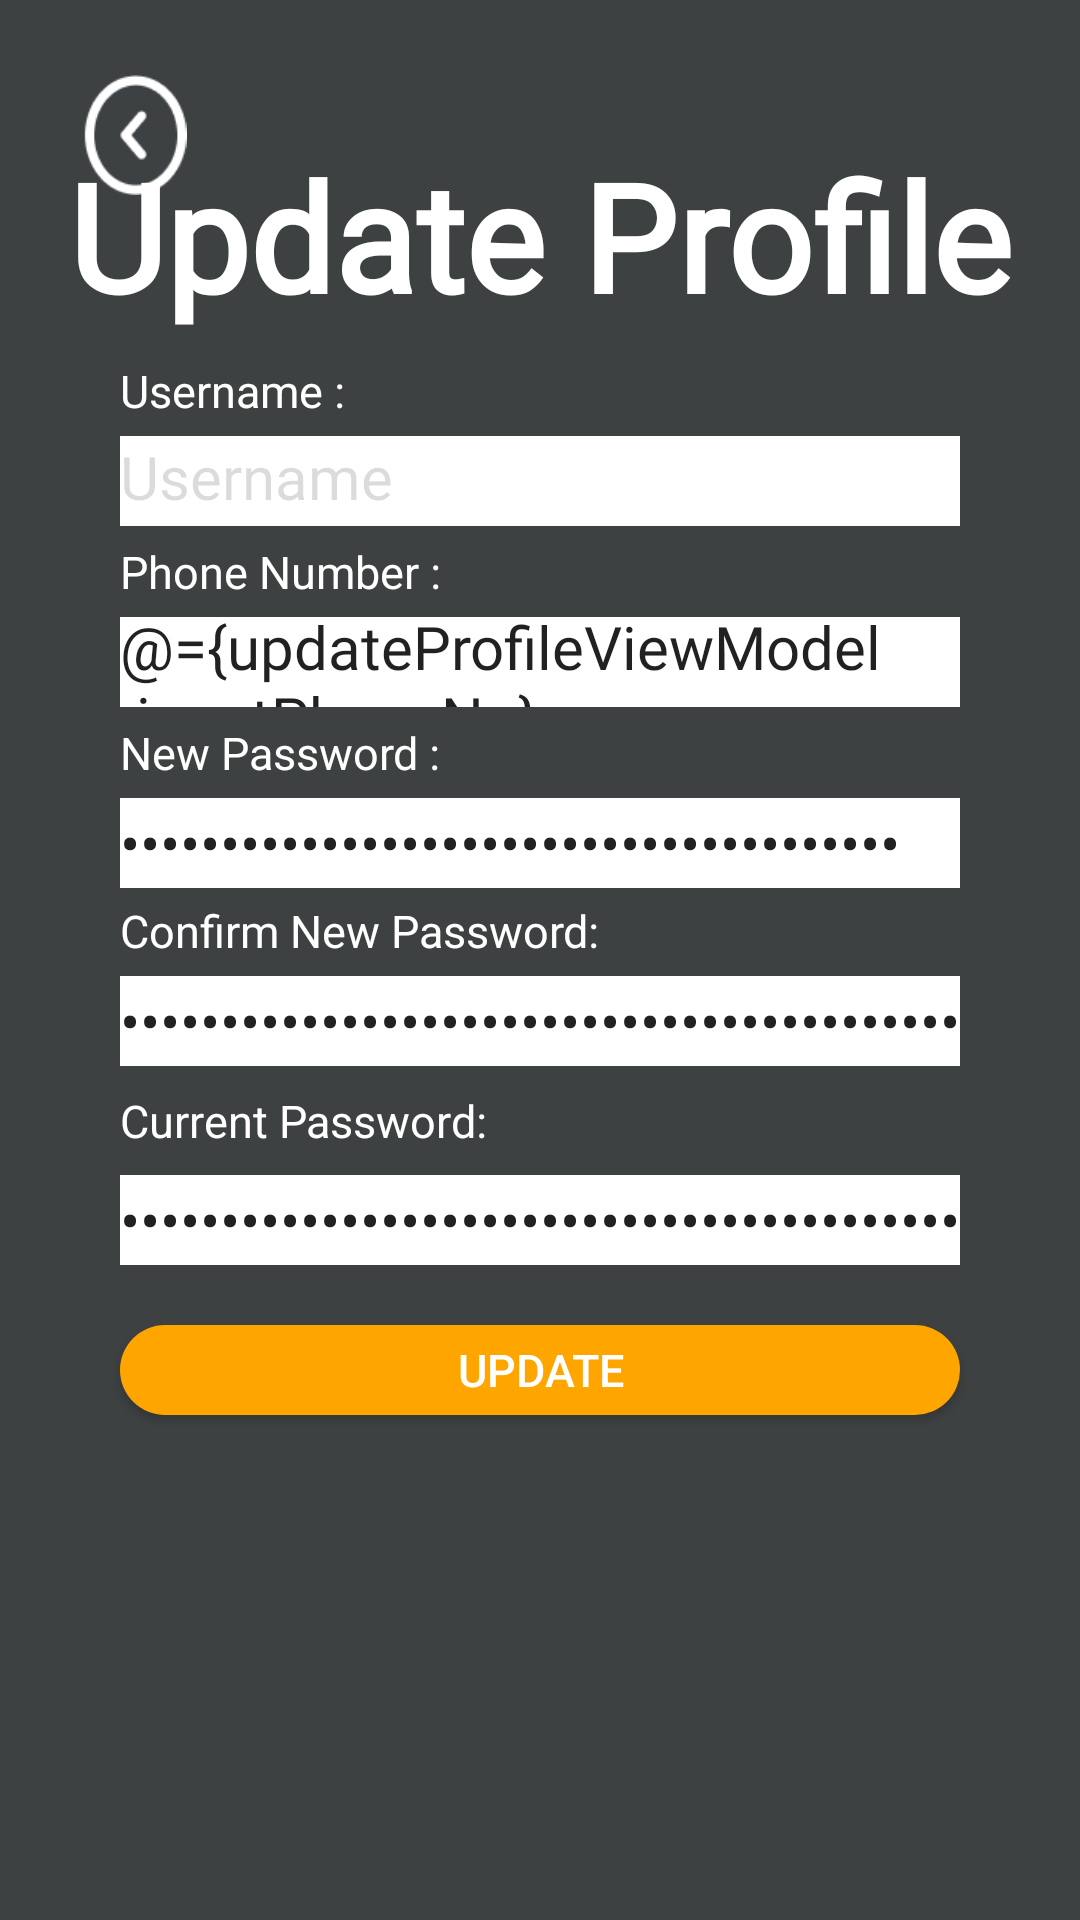

Screen size 1080 x 1920. Icon name, then its center in pixels as (x=x, y=y):
back: (x=132, y=135)
